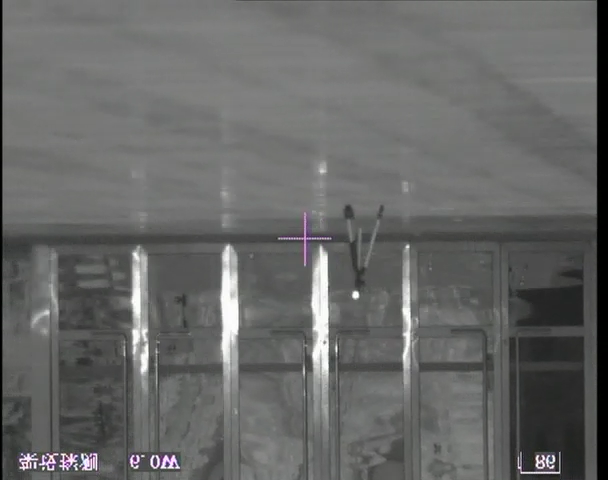my: (350, 289, 360, 301)
